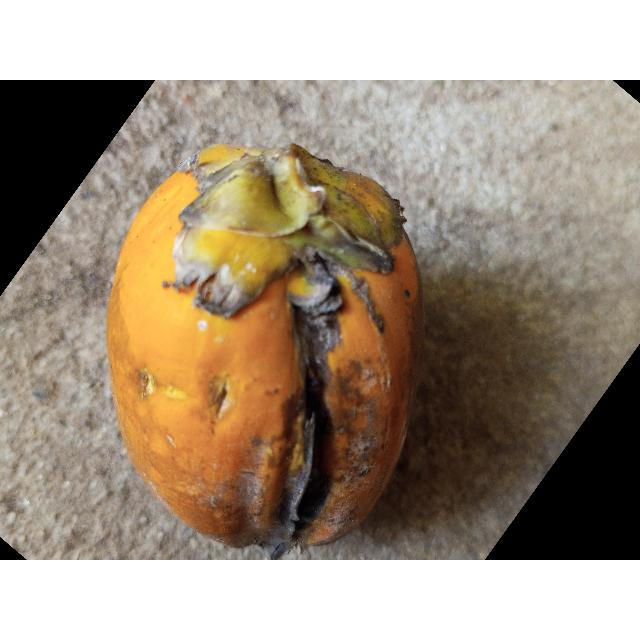damaged: (103, 144, 427, 560)
